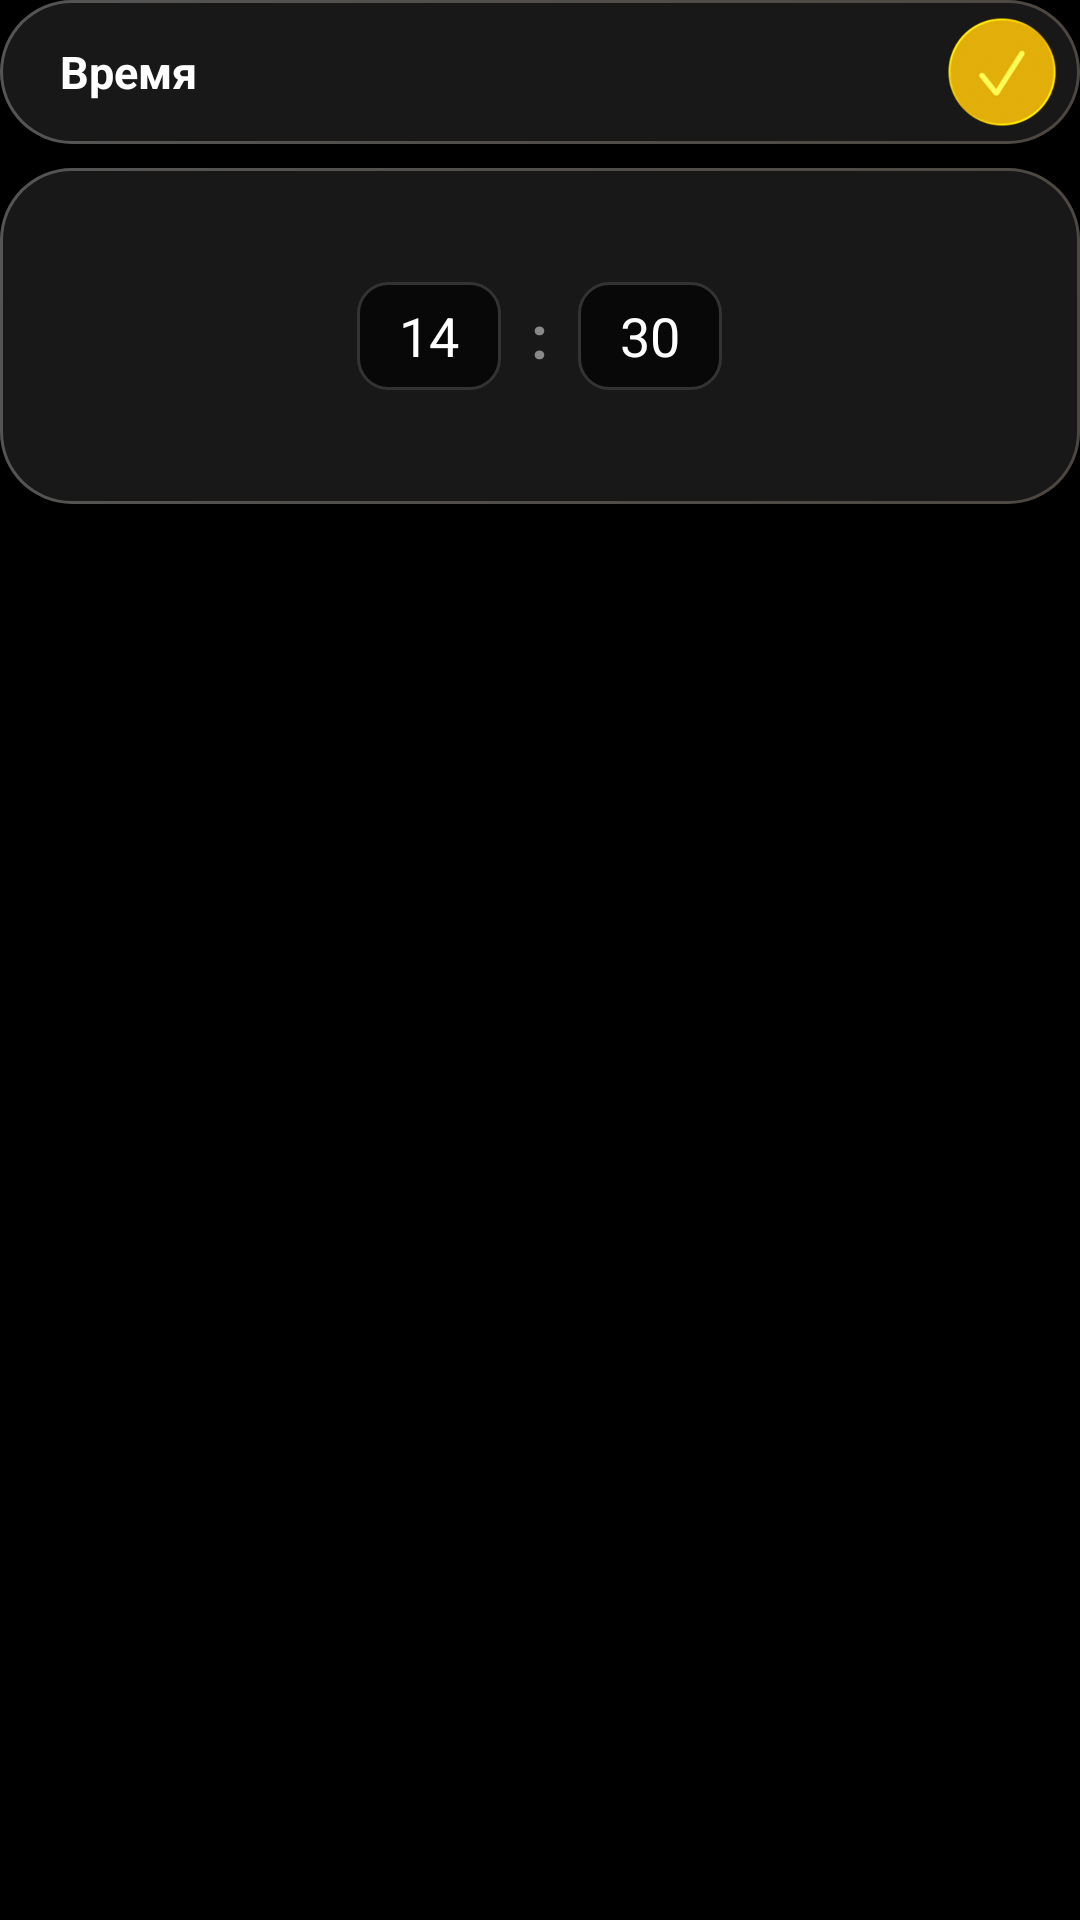

Locate icon controls on the screen. Image size 1080w x 1920h, boxes as [x1, y1, x2, y2].
Готово: [948, 18, 1056, 126]
